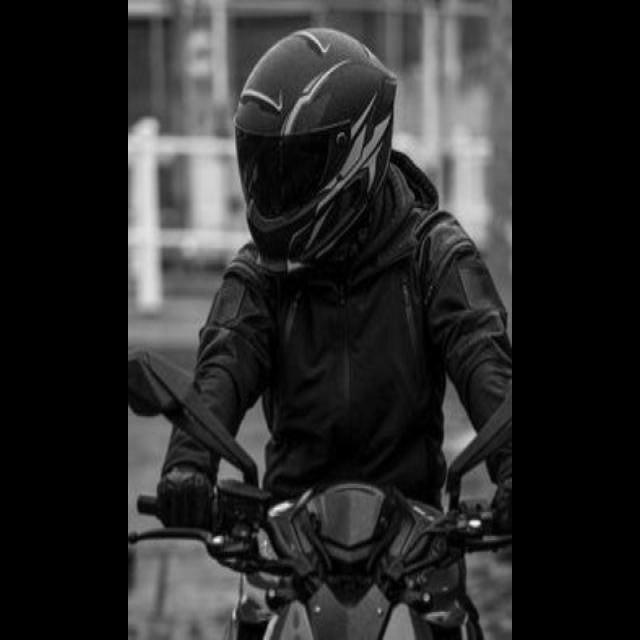5_casco: (221, 18, 409, 294)
